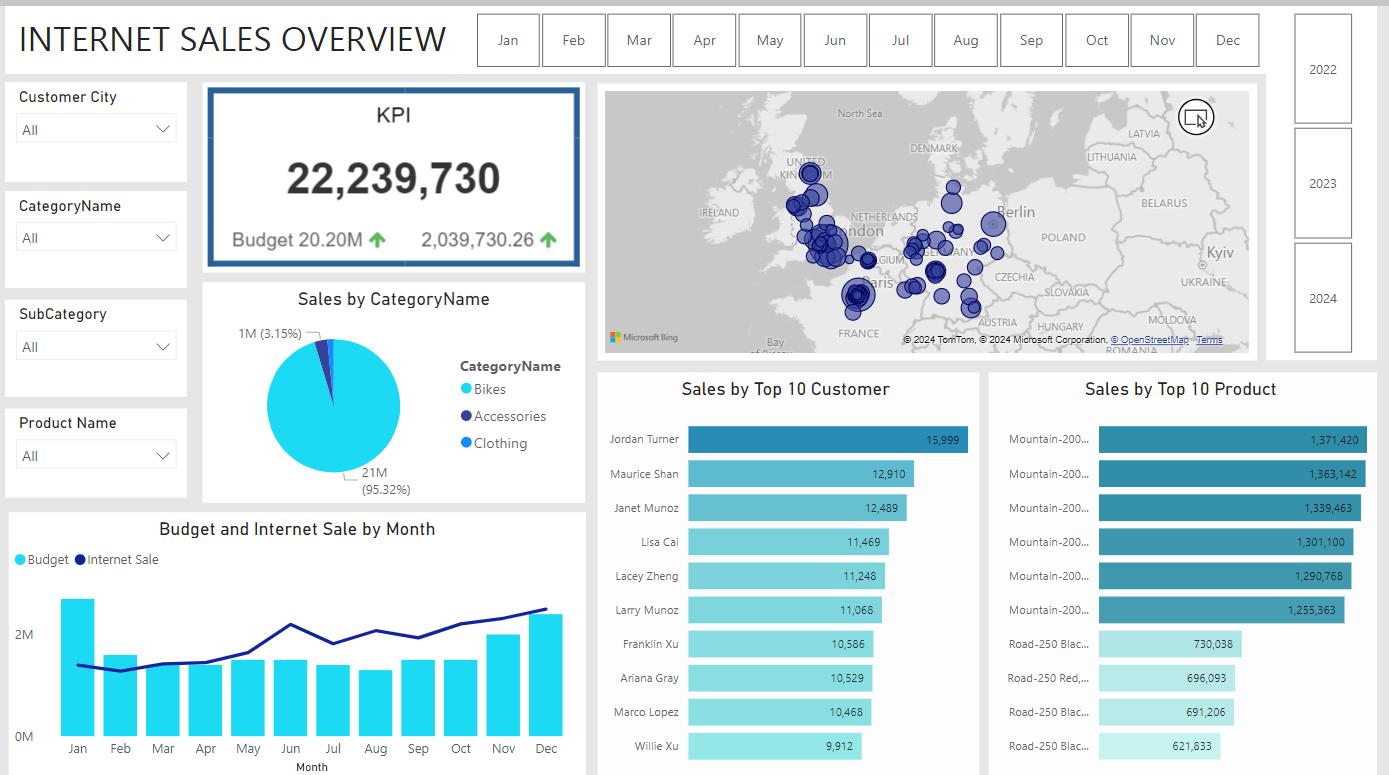

The page's visual inventory and layout, read from the dashboard file:
{"tool":"powerbi","page":{"name":"Sales Overview","canvas":[1280,720],"ordinal":0},"visuals":[{"type":"textbox","box":[0,0,424.3,63.6],"z":0},{"type":"slicer","fields":{"Values":["Dim_Customer.CustomerCity"]},"box":[0,70.9,170,92.9],"z":1000},{"type":"slicer","fields":{"Values":["Dim_Product.CategoryName"]},"box":[0,172.4,170,90.5],"z":2000},{"type":"slicer","fields":{"Values":["Dim_Product.SubCategory"]},"box":[0,273.9,170,90.5],"z":3000},{"type":"slicer","fields":{"Values":["Dim_Product.Name"]},"box":[0,375.4,170,83.2],"z":4000},{"type":"slicer","fields":{"Values":["Dim_Date.Year"]},"box":[1176.4,0,103.9,330.2],"z":5000},{"type":"slicer","fields":{"Values":["Dim_Date.MonthShort"]},"box":[413.3,0,780.2,63.6],"z":6000},{"type":"BBED0A4D4D8D44CE93CF2DAFADEE466C","fields":{"actual":["Fact_InternetSale.Sale"],"target1":["Fact_Budget.BudgetAmount"],"target2":["Fact_Budget.Sale - Budget"]},"box":[184.6,70.9,357.1,177.3],"z":7000},{"type":"pieChart","title":"Sales by CategoryName","fields":{"Category":["Dim_Product.CategoryName"],"Y":["Fact_InternetSale.Sale"]},"box":[184.6,258,357.1,205.4],"z":8000},{"type":"lineClusteredColumnComboChart","fields":{"Category":["Dim_Date.MonthShort"],"Y":["Fact_Budget.BudgetAmount"],"Y2":["Fact_InternetSale.Sale"]},"box":[3.7,472,538,248.2],"z":9000},{"type":"clusteredBarChart","title":"Sales by Top 10 Customer","fields":{"Y":["Fact_InternetSale.Sale"],"Category":["Dim_Customer.FullName"]},"box":[552.7,341.2,355.8,379.1],"z":10000},{"type":"map","fields":{"Category":["Dim_Customer.CustomerCity"],"Size":["Fact_InternetSale.Sale"]},"box":[552.7,72.1,615.1,258],"z":11000},{"type":"clusteredBarChart","title":"Sales by Top 10 Product","fields":{"Y":["Fact_InternetSale.Sale"],"Category":["Dim_Product.Name"]},"box":[917.1,341.2,363.2,379.1],"z":12000}]}

Visuals, with their boxes in screenshot pixels (x1, y1, x2, y2), scaled from the page's 1280x720 canvas onto the 1389x775 screenshot:
textbox: [0, 0, 460, 68]
slicer - Dim_Customer.CustomerCity: [0, 76, 184, 176]
slicer - Dim_Product.CategoryName: [0, 186, 184, 283]
slicer - Dim_Product.SubCategory: [0, 295, 184, 392]
slicer - Dim_Product.Name: [0, 404, 184, 494]
slicer - Dim_Date.Year: [1277, 0, 1388, 355]
slicer - Dim_Date.MonthShort: [448, 0, 1295, 68]
BBED0A4D4D8D44CE93CF2DAFADEE466C - Fact_InternetSale.Sale x Fact_Budget.BudgetAmount: [200, 76, 588, 267]
"Sales by CategoryName" pieChart: [200, 278, 588, 499]
lineClusteredColumnComboChart - Dim_Date.MonthShort x Fact_Budget.BudgetAmount: [4, 508, 588, 774]
"Sales by Top 10 Customer" clusteredBarChart: [600, 367, 986, 774]
map - Dim_Customer.CustomerCity x Fact_InternetSale.Sale: [600, 78, 1267, 355]
"Sales by Top 10 Product" clusteredBarChart: [995, 367, 1388, 774]
